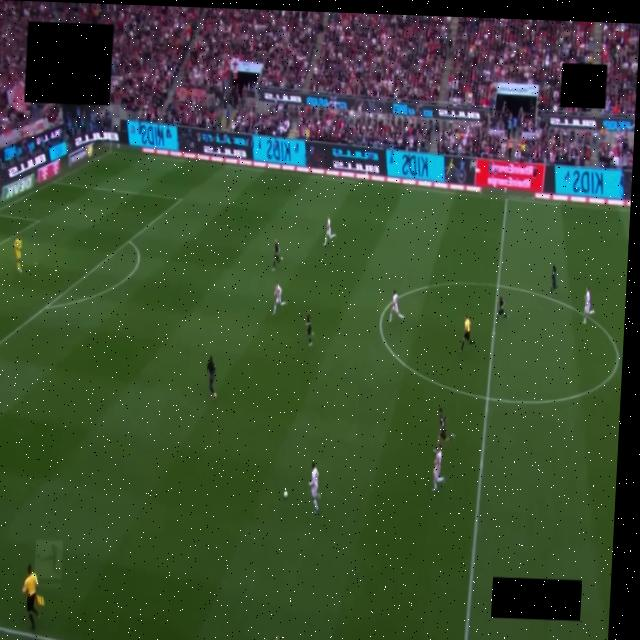ball: (283, 491, 287, 499)
player: (432, 442, 443, 491), (272, 282, 288, 315), (308, 462, 318, 513), (389, 290, 403, 322), (582, 287, 594, 324), (206, 356, 216, 400), (436, 408, 446, 447), (12, 238, 23, 273), (323, 218, 335, 245), (496, 296, 507, 322), (272, 240, 281, 271), (305, 311, 312, 346), (550, 265, 556, 295)
referee: (459, 315, 474, 353)
